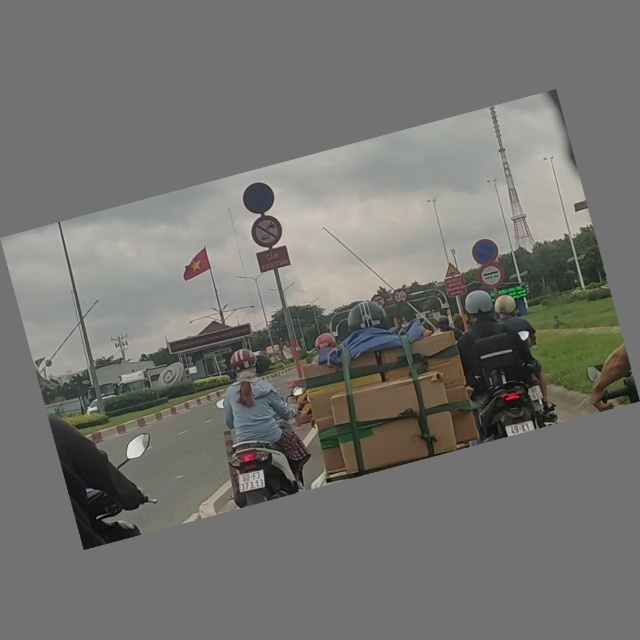P.111: (247, 213, 287, 251)
P.117*: (391, 288, 411, 306)
P.129: (476, 261, 507, 292)
P.130: (239, 179, 278, 217)
P.131a: (469, 237, 501, 268)
W.221b: (441, 261, 462, 279)
